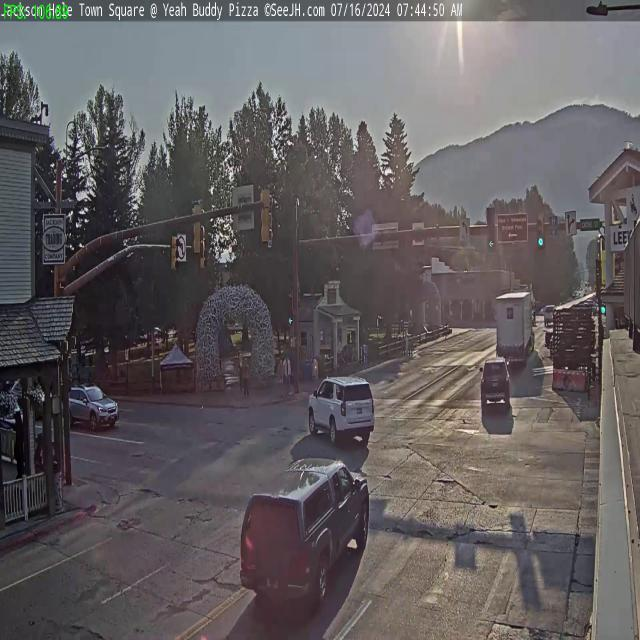person: (240, 358, 248, 400), (284, 353, 290, 397), (278, 359, 284, 396)
suv: (233, 456, 373, 640), (307, 369, 378, 446), (64, 383, 118, 432), (481, 354, 513, 407)
traffic light: (260, 185, 273, 244), (191, 200, 203, 259), (486, 207, 496, 250), (170, 233, 178, 271), (537, 214, 545, 248)
truck: (493, 288, 539, 360)
